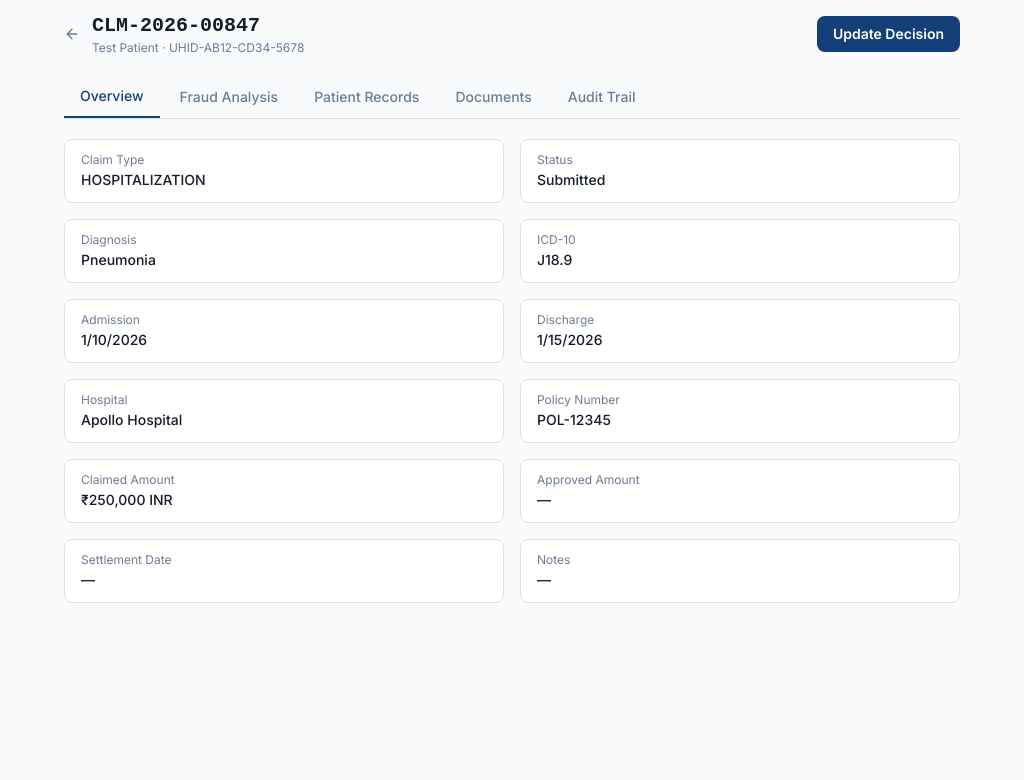
ClaimDetailPage › records tab shows no-consent state with Request Access button
The width and height of the screenshot is (1024, 780).
Click the button with test id "tab-records" at (367, 97), box [298,76,435,118]
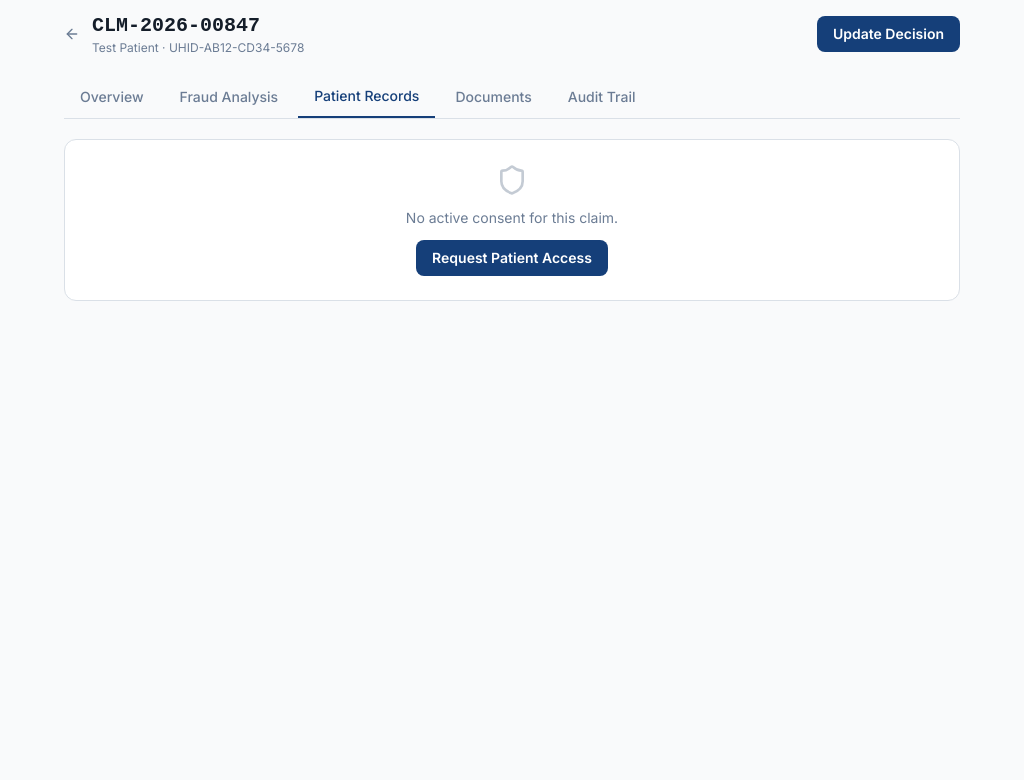
Check: the element with test id "tab-records-content" is shown, box [64,139,960,301]
Check: the button with test id "request-access-btn" is shown, box [416,240,608,276]
